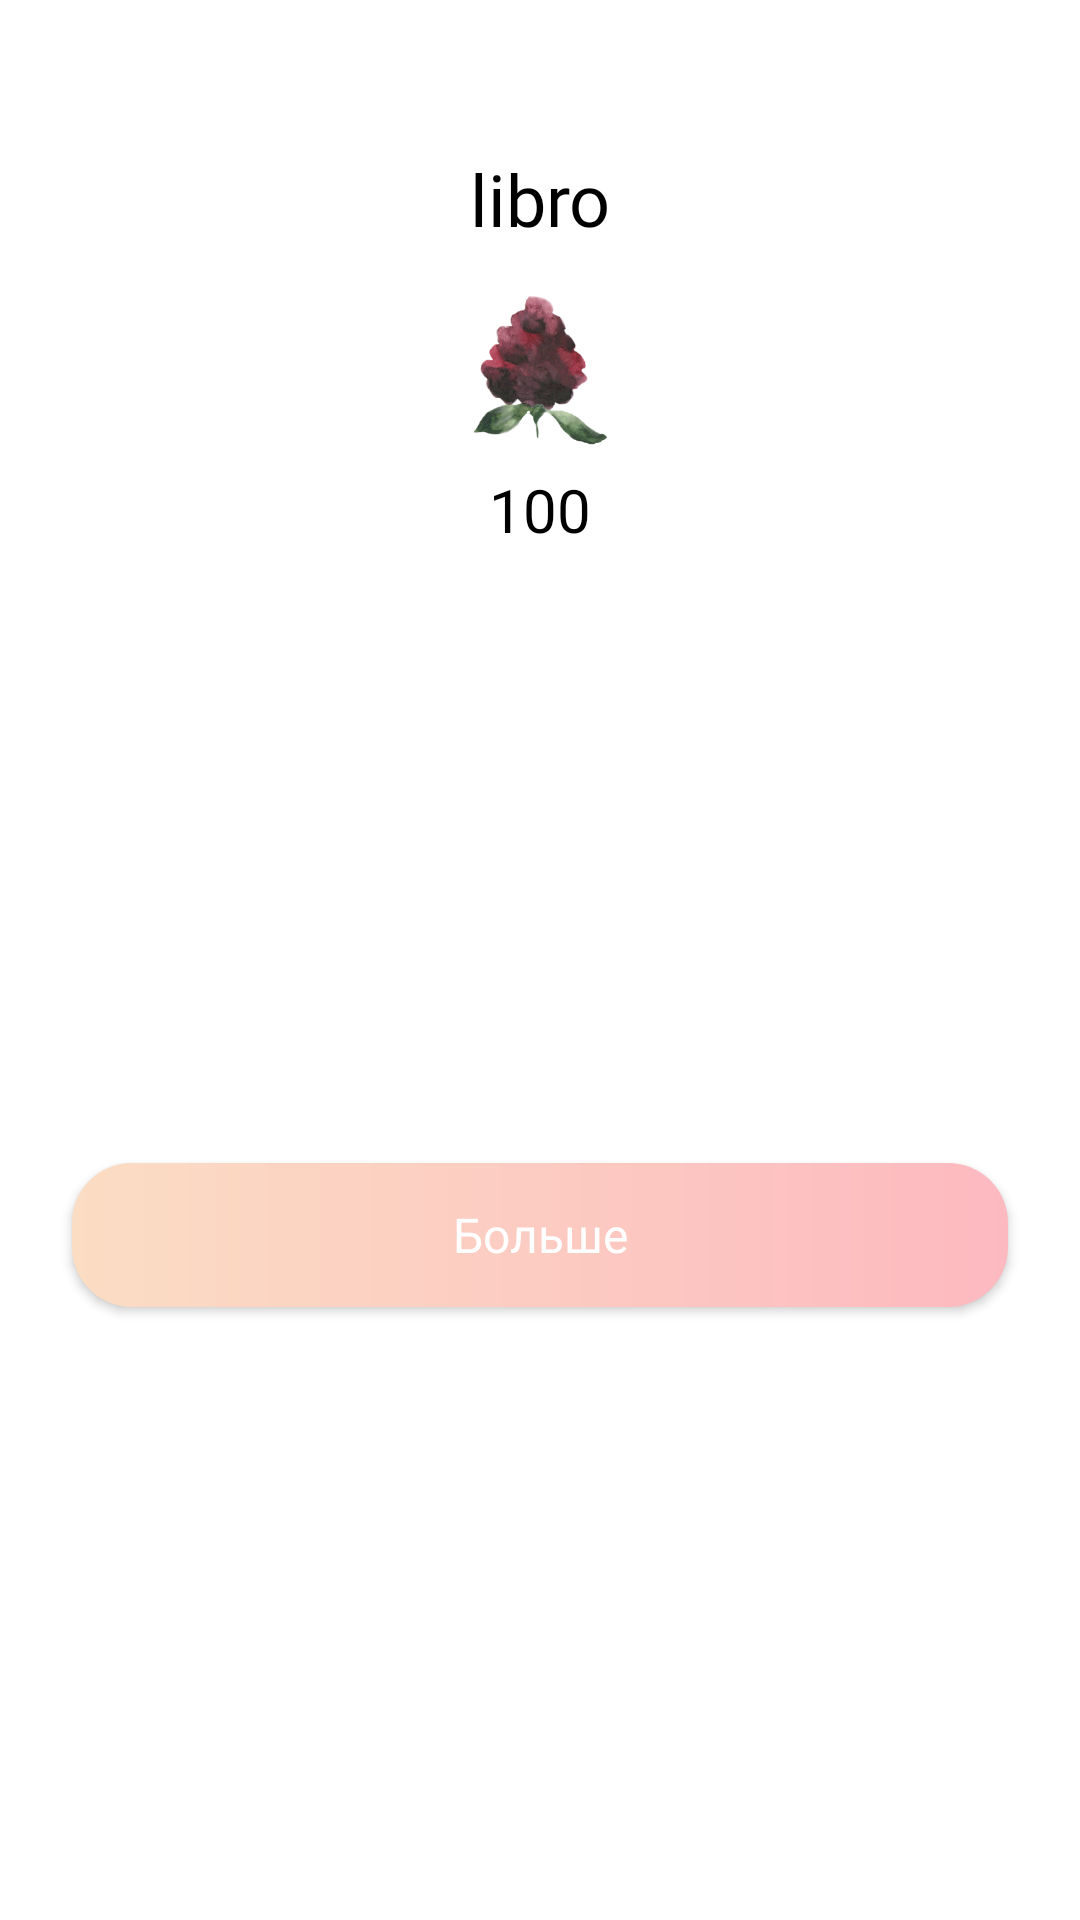

Where icons sit on this 1080x1920 app screen, as {"x1": x1, "y1": y1, "x2": x2, "y2": y2}:
flower: {"x1": 474, "y1": 296, "x2": 607, "y2": 445}
